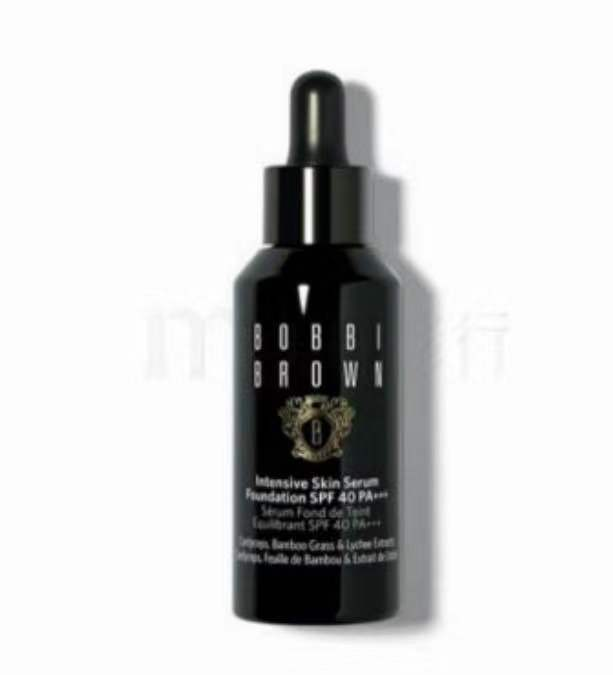cosmetic: (229, 71, 397, 614)
